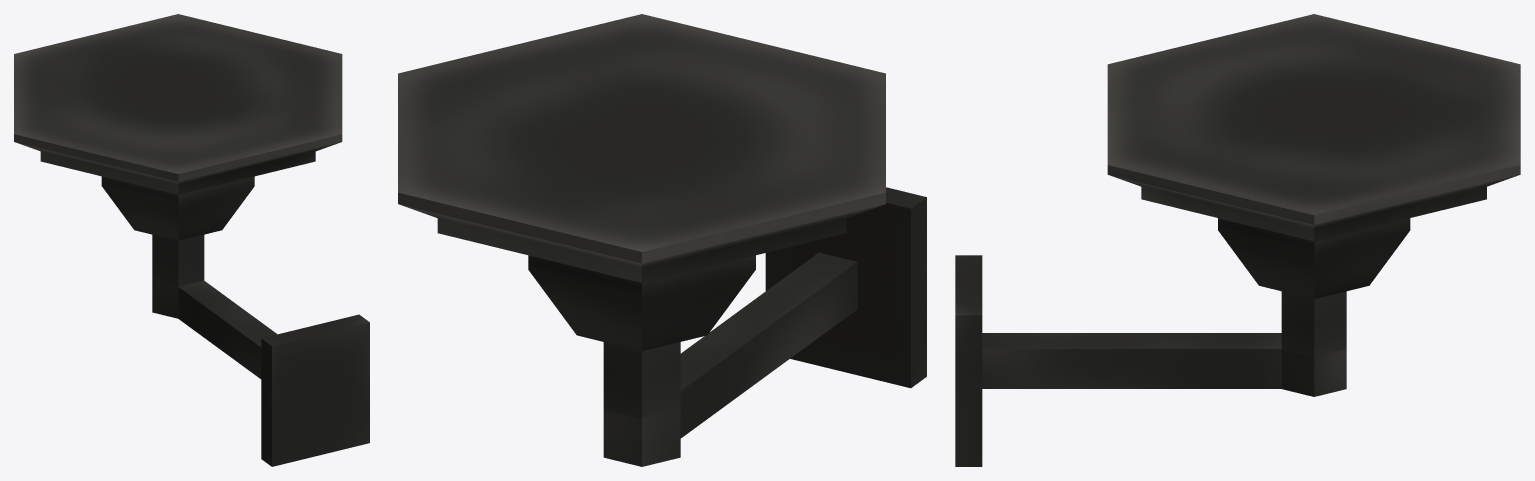
Rendered from lyhty_labyrintti.fbx.
The picture shows the model from 3 angles, left to right: view 1: azimuth 30°, elevation 25°; view 2: azimuth 150°, elevation 25°; view 3: azimuth 270°, elevation 25°; orthographic projection. The views are drawn at different scales.
Visible parts, largest first — view 1: pCylinder2; view 2: pCylinder2; view 3: pCylinder2.
Boxes of the visible parts, box(x1,y1,x2,y2) form: pCylinder2: box(14, 14, 369, 466); pCylinder2: box(398, 14, 926, 466); pCylinder2: box(955, 14, 1520, 466).
Bounding box in the file's own units: 2.39 × 1.78 × 2.83.
